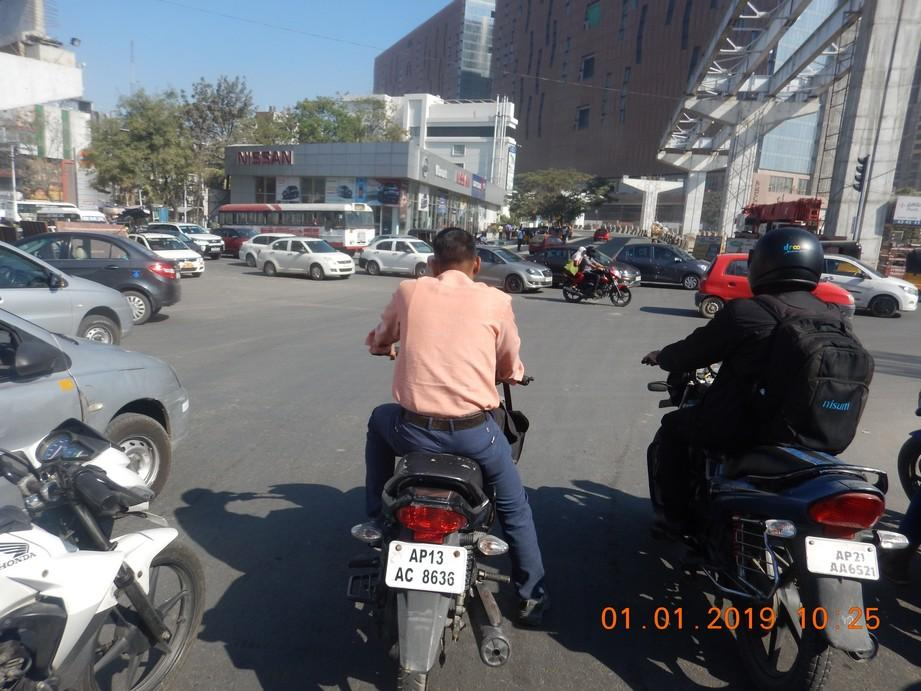plate: (386, 542, 466, 591), (820, 543, 881, 581)
